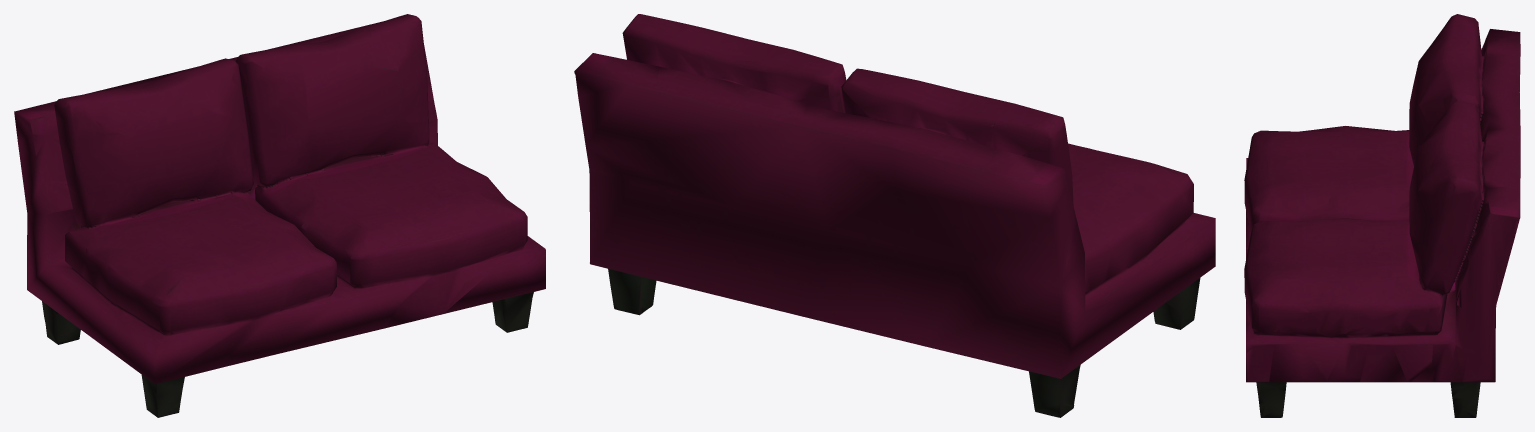
The model's file is sofa.glb.
3 views of the same model, side by side, from view 1: azimuth 30°, elevation 25°; view 2: azimuth 150°, elevation 25°; view 3: azimuth 270°, elevation 25° (orthographic). The views are drawn at different scales.
Visible parts, largest first — view 1: Mesh_0; view 2: Mesh_0; view 3: Mesh_0.
Part boxes in pixels (<box>): Mesh_0: <box>14,14,545,417</box>; Mesh_0: <box>574,14,1215,417</box>; Mesh_0: <box>1244,14,1520,417</box>.
Bounding box in the file's own units: 1.91 × 1.12 × 1.2.
1 material, 1 textured.
